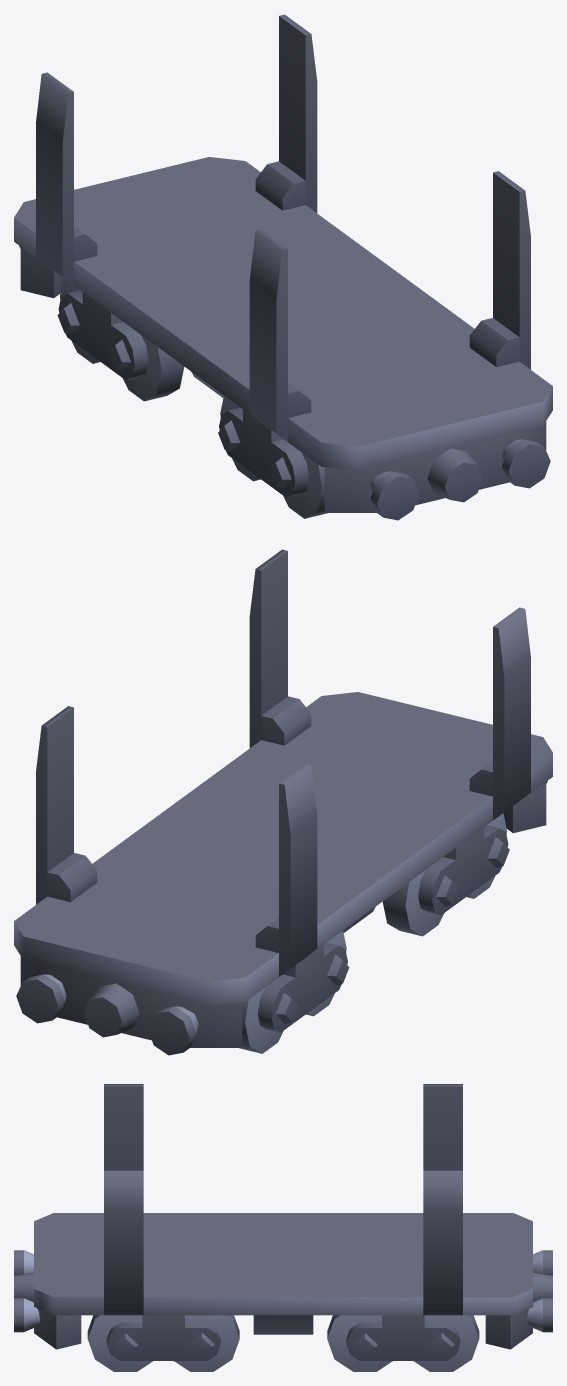
File: train-carriage-flatbed.glb
3 views of the same model, one above another, from view 1: azimuth 30°, elevation 25°; view 2: azimuth 150°, elevation 25°; view 3: azimuth 270°, elevation 25° (orthographic). The views are drawn at different scales.
Visible parts, largest first — view 1: train-carriage-flatbed, wheels-back, wheels-front; view 2: train-carriage-flatbed, wheels-front, wheels-back; view 3: train-carriage-flatbed, wheels-front, wheels-back.
Boxes of the visible parts, x1,y1,x2,y2 form: train-carriage-flatbed: (14,14,552,520); wheels-back: (57,278,184,401); wheels-front: (218,396,327,518); train-carriage-flatbed: (14,549,552,1055); wheels-front: (382,813,509,936); wheels-back: (239,931,349,1053); train-carriage-flatbed: (14,1084,552,1349); wheels-front: (87,1315,239,1371); wheels-back: (327,1315,479,1371).
Size of the model in its own units: 1.1 by 1.16 by 2.7.
